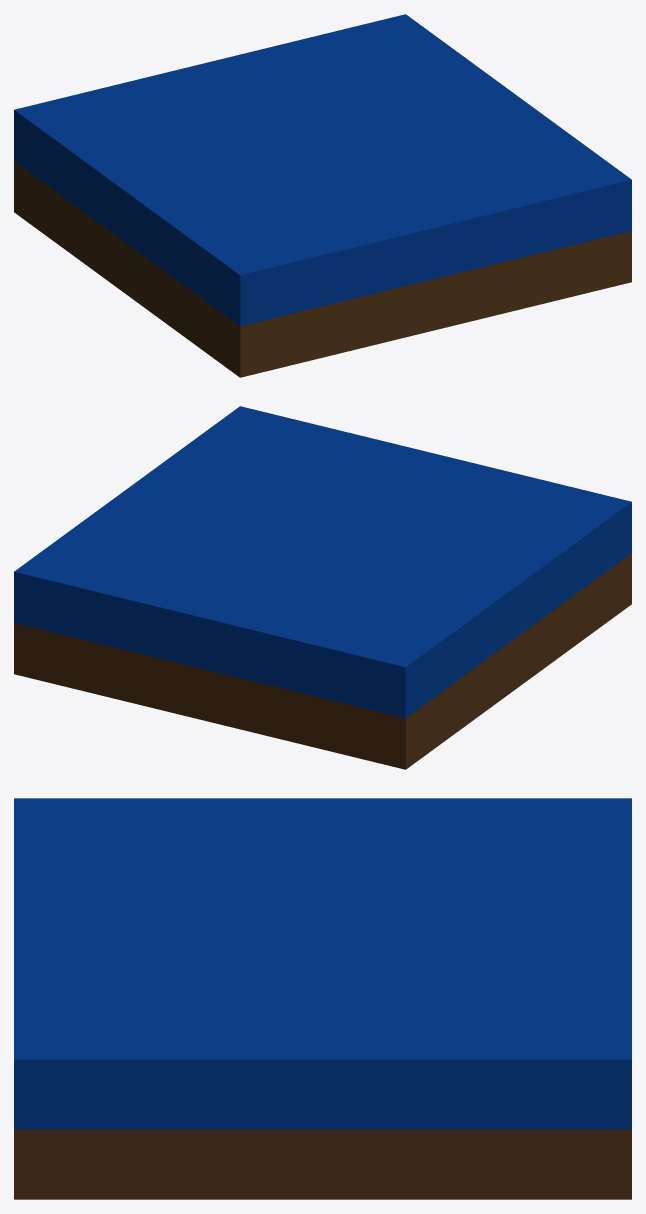
Rendered from Block_8.fbx.
3 views of the same model, one above another, from view 1: azimuth 30°, elevation 25°; view 2: azimuth 150°, elevation 25°; view 3: azimuth 270°, elevation 25° (orthographic). The views are drawn at different scales.
Parts seen in each view (by area): view 1: Block_0; view 2: Block_0; view 3: Block_0.
Boxes of the visible parts, x1,y1,x2,y2 form: Block_0: (14,14,631,377); Block_0: (14,406,631,769); Block_0: (14,798,631,1199).
Bounding box in the file's own units: 400 × 100 × 400.
